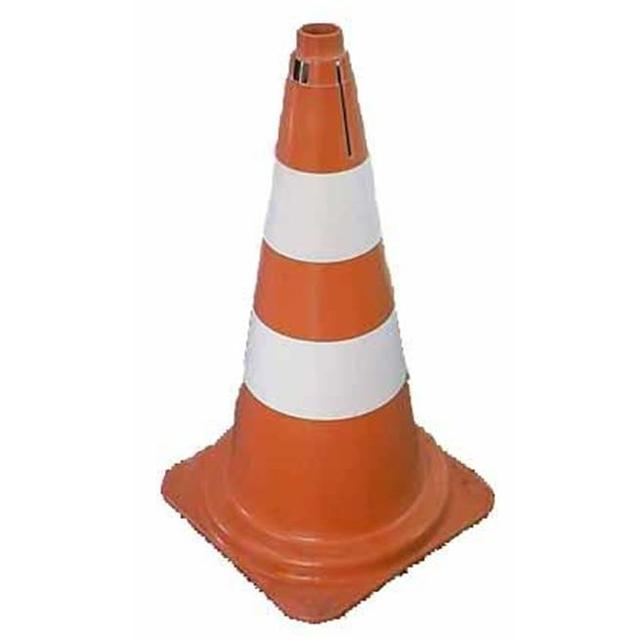traffic_cone: (159, 21, 496, 624)
